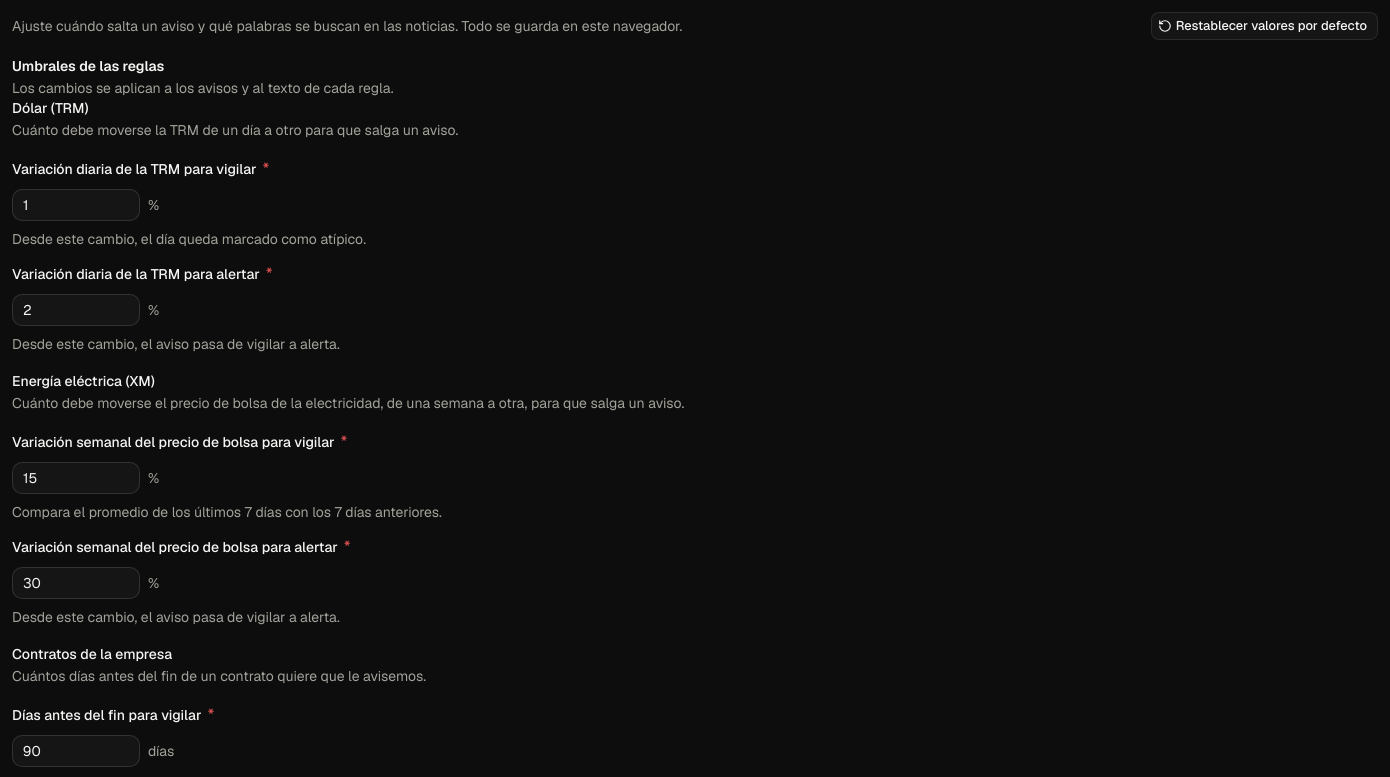
Test: PreferenciasView › shows the save and discard actions only while there are changes
Expected: the button "Guardar cambios" is not shown
Type "5" into the field labelled "Variación diaria de la TRM para vigilar" at (76, 205), box [12,189,140,221]
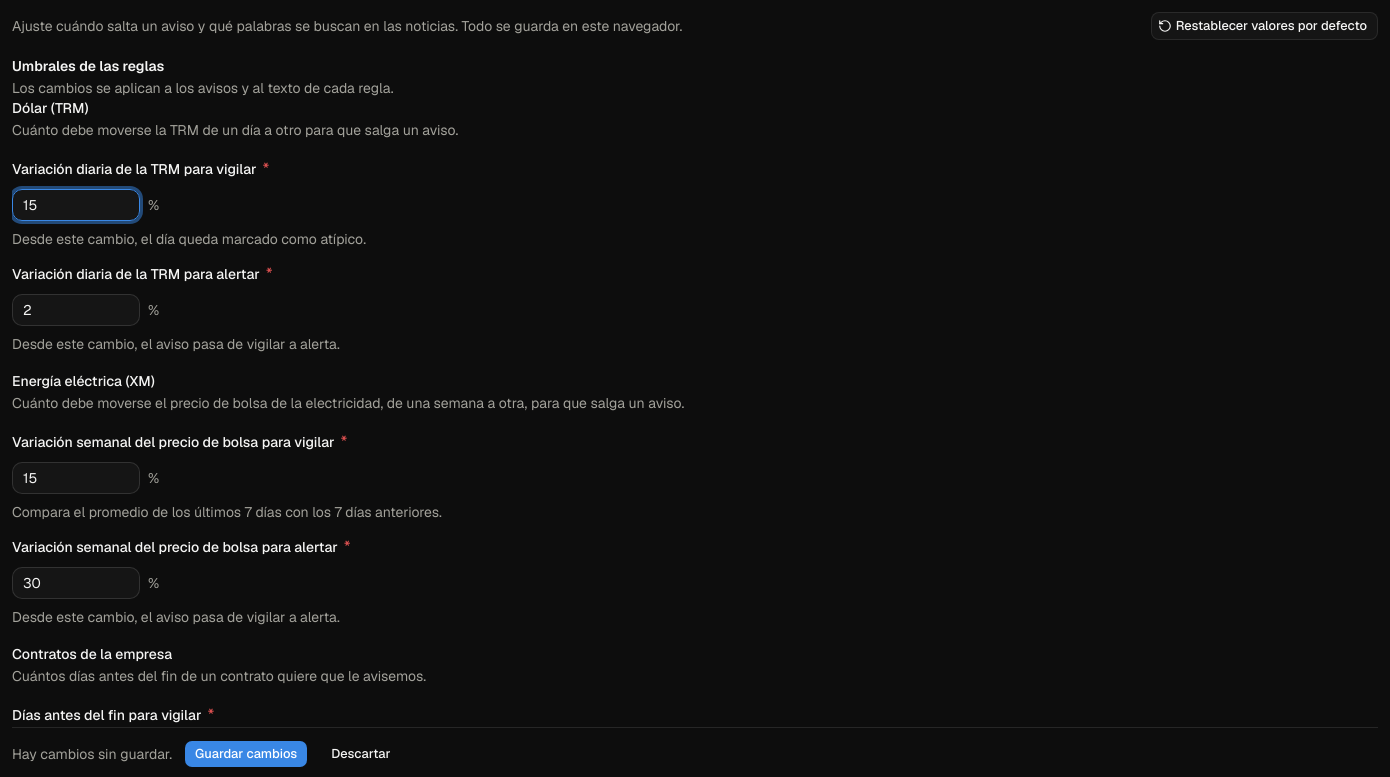
Click the button "Descartar" at (361, 754), box [320,740,402,768]
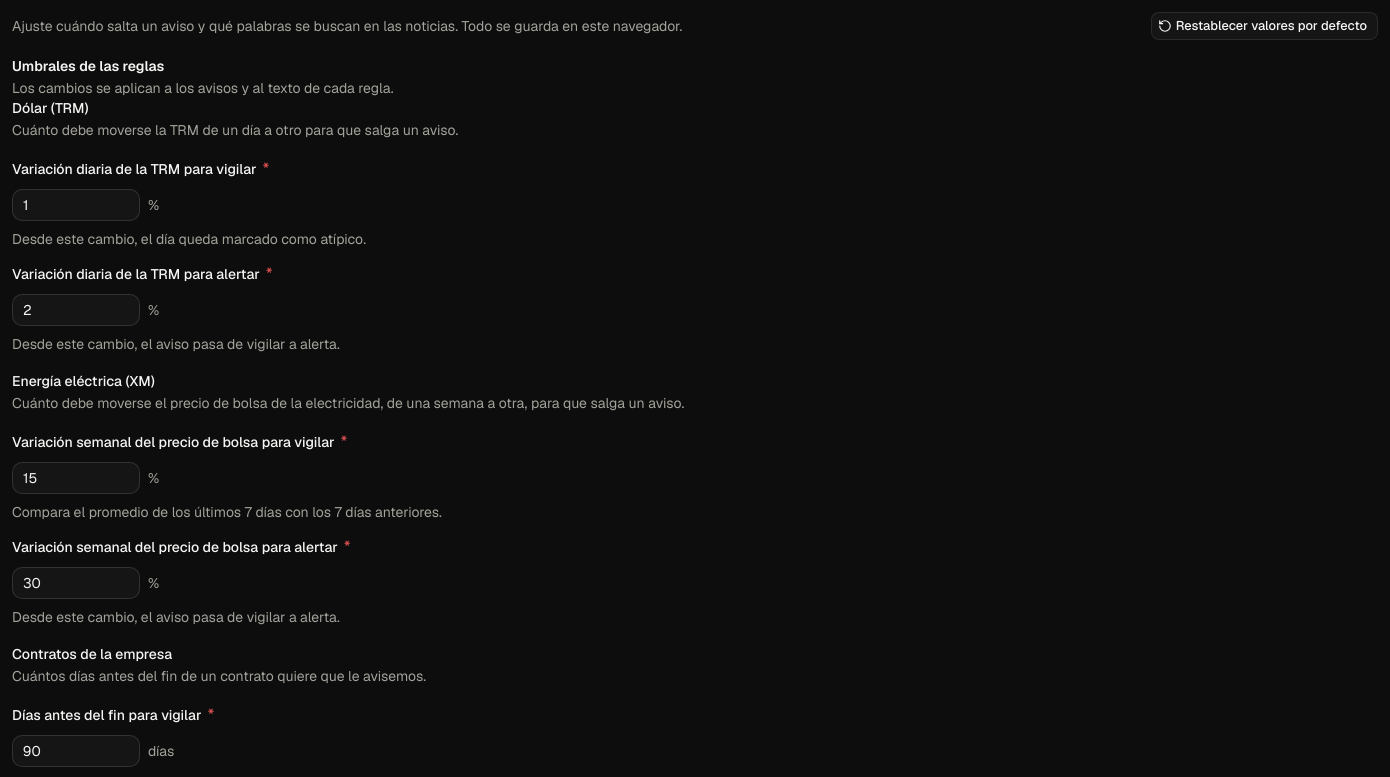
Now the field labelled "Variación diaria de la TRM para vigilar" holds "1", box [12,189,140,221]
Now the button "Guardar cambios" is gone
